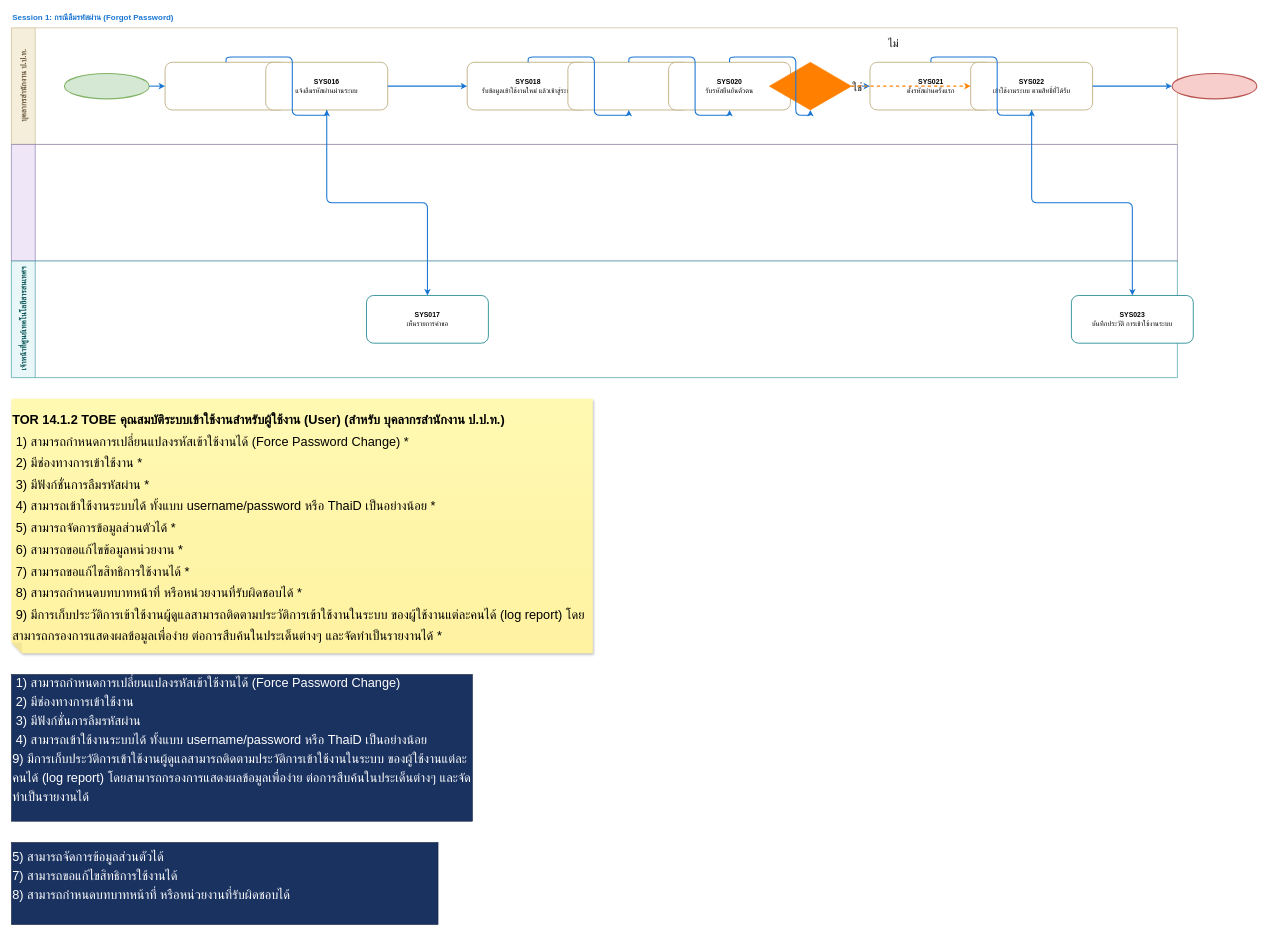
The diagram is 1266 pixels wide and 934 high, and some of its shapes have lost their labels. Each missing label, with the centre of its shape:
SYS015 เปิดหน้าเข้าสู่ระบบ: point (225, 86)
SYS019 เข้าใช้งานด้วย ชื่อผู้ใช้/รหัสผ่าน หรือ ThaiD: point (628, 86)
จบ: point (1214, 86)
เจ้าหน้าที่ธุรการกองหน่วยงาน: point (594, 202)
เริ่ม: point (106, 86)
ใช้งานครั้งแรก?: point (810, 86)
